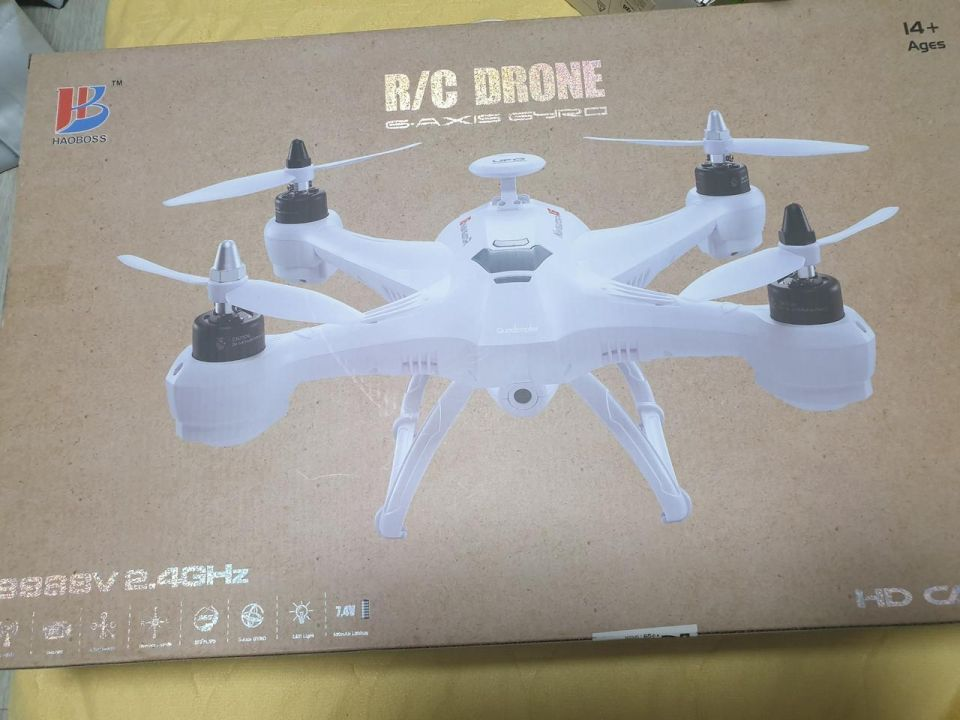drone: (106, 107, 919, 547)
